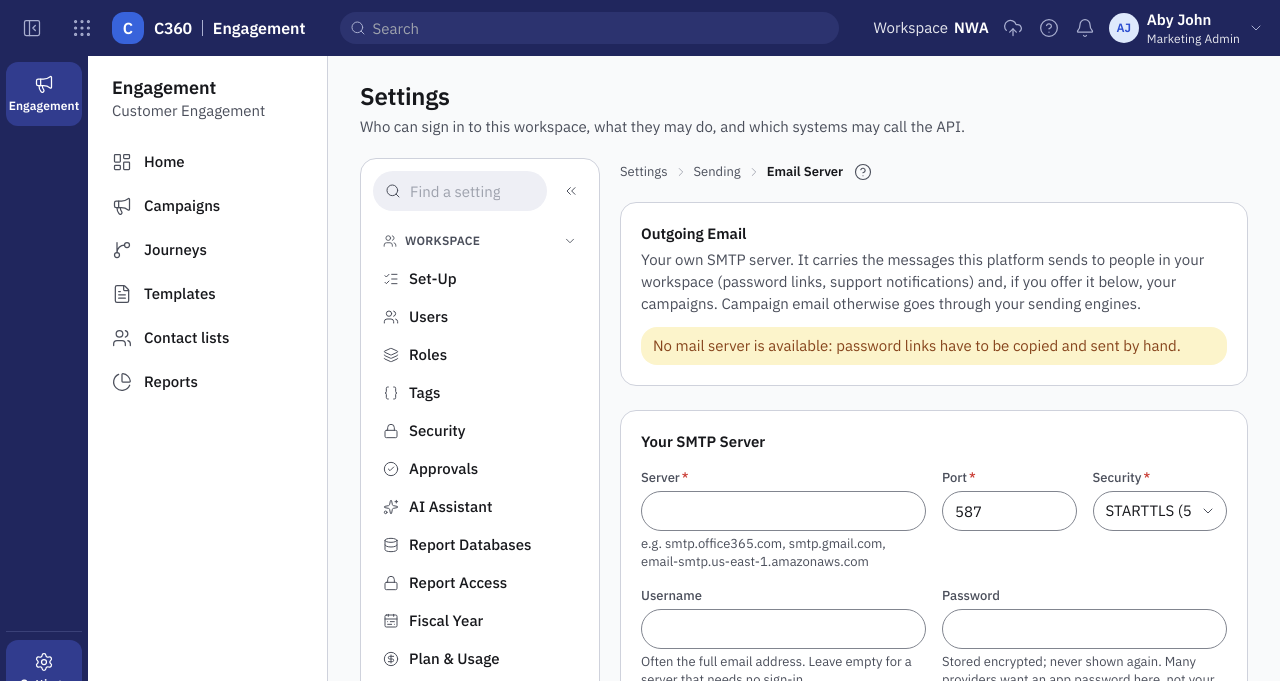
a workspace enters its own SMTP server: the password is sent once and never shown again; a test message can then be sent
This screenshot has width=1280, height=681.
Expected: the text "No mail server is available" is shown, [653, 336, 1181, 355]
In the field labelled "Server*": (784, 511) [641, 491, 926, 531], type "smtp.office365.com"
In the field labelled "Username": (784, 629) [641, 609, 926, 649], type "mailer@nwa.example"
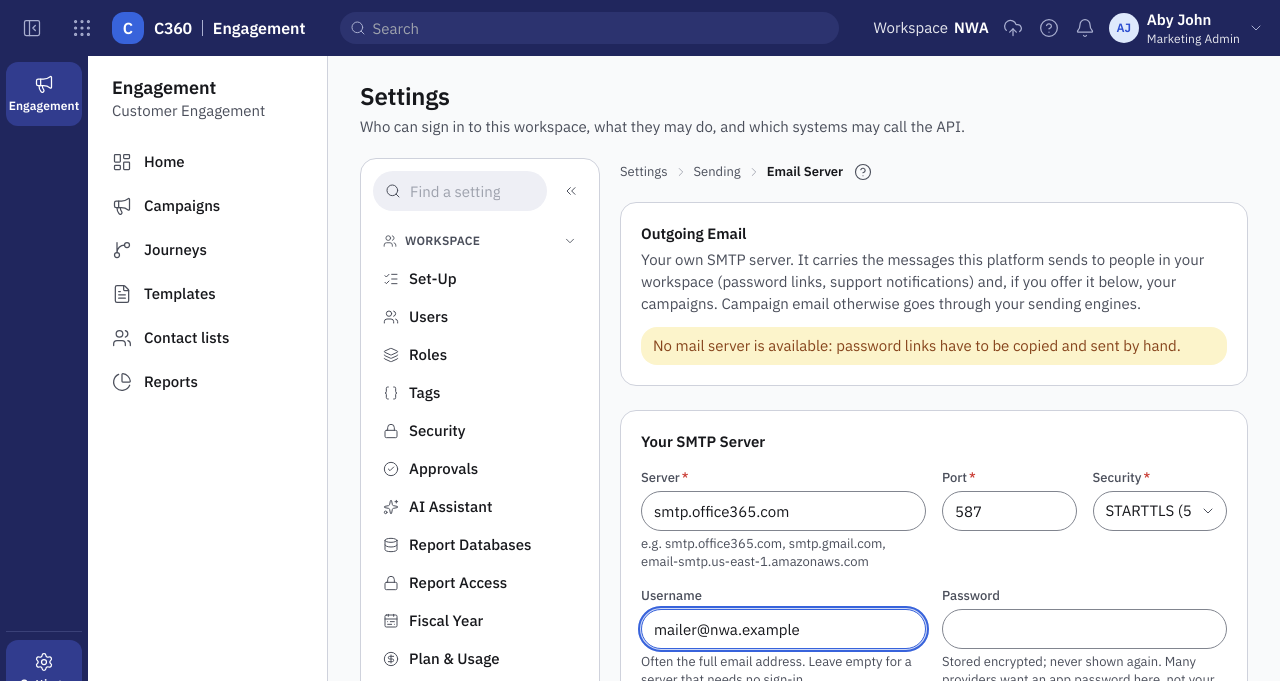
In the password field labelled "Password": (1084, 629) [942, 609, 1227, 649], type "app-password-1"
(page scrolled)
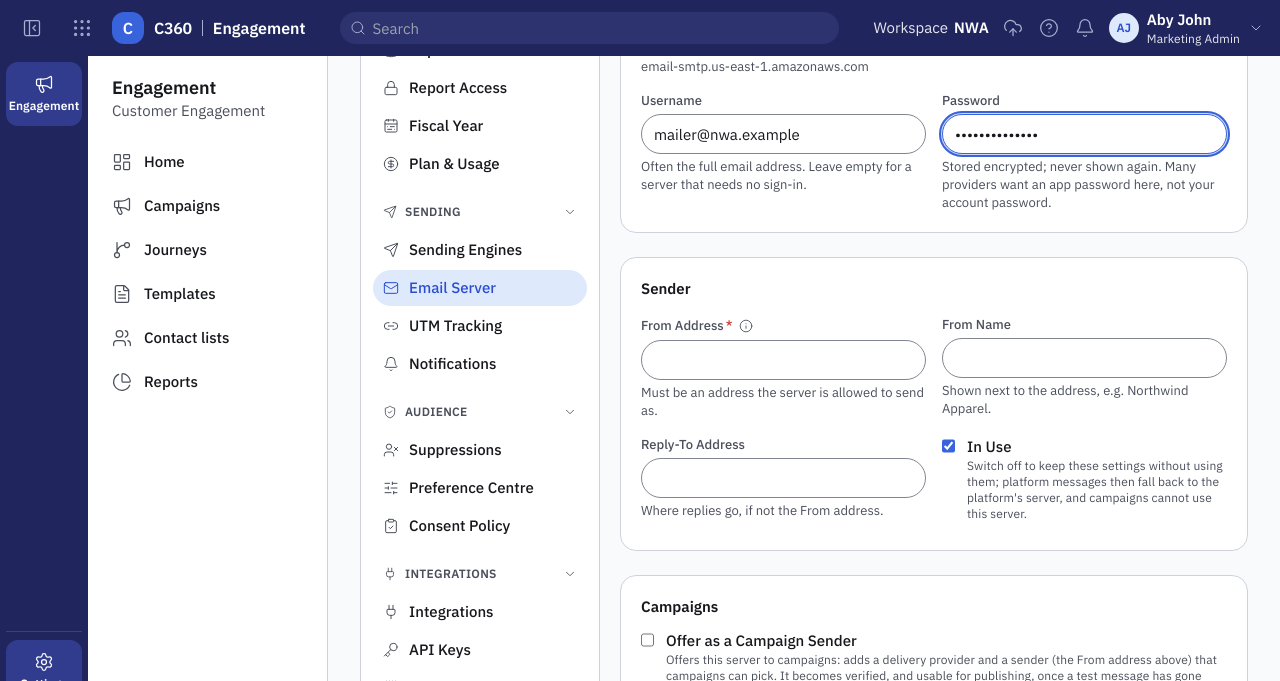
In the field labelled "From Address*": (784, 360) [641, 340, 926, 380], type "hello@nwa.example"
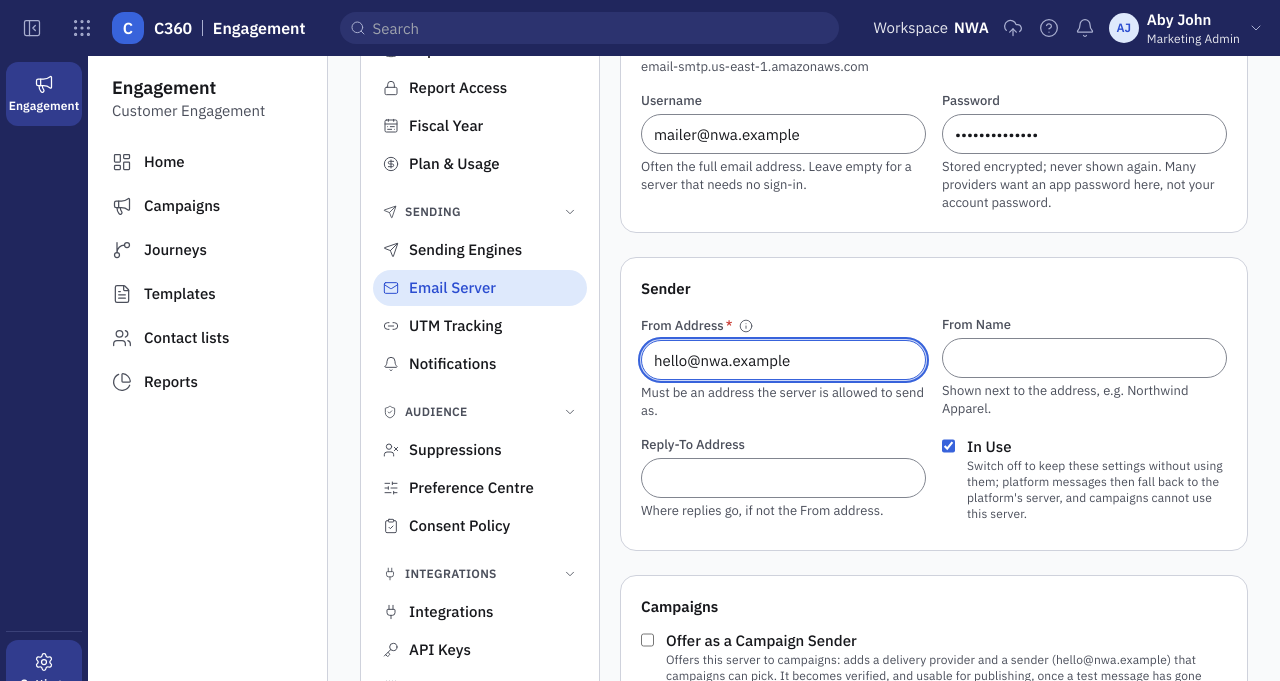
In the field labelled "From Name": (1084, 358) [942, 338, 1227, 378], type "Northwind"
(page scrolled)
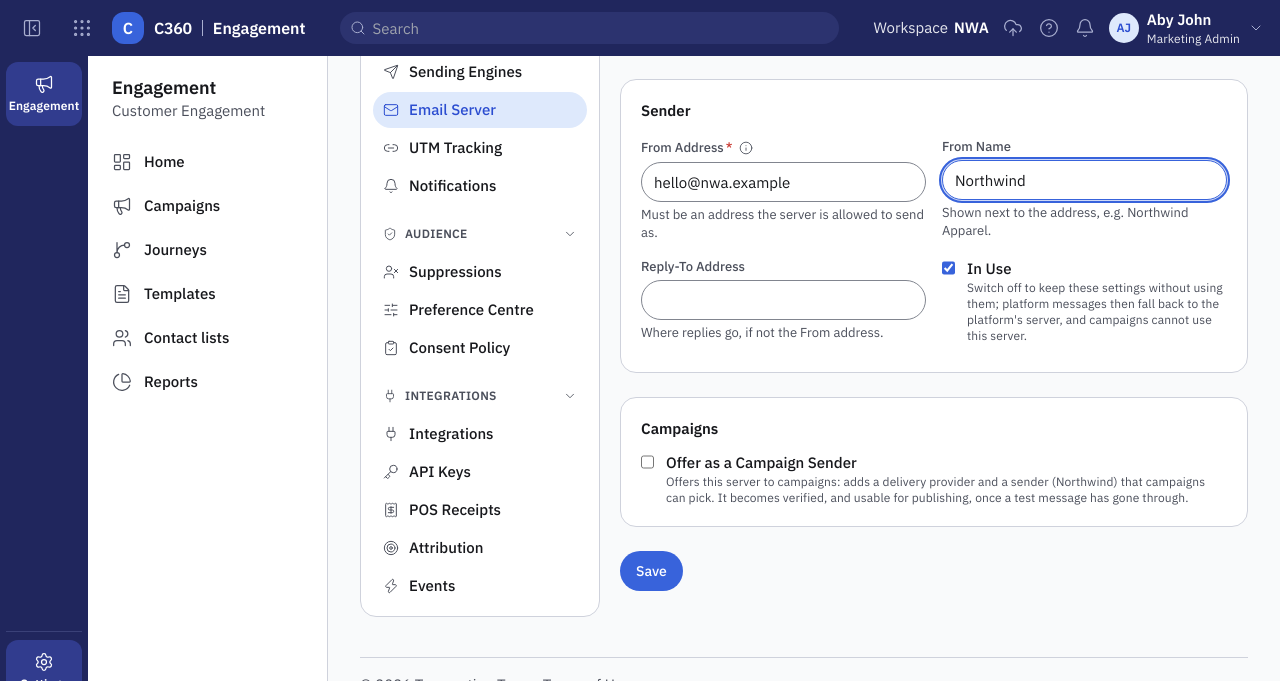
Click the button "Save": (651, 571) [620, 551, 683, 591]
(page scrolled)
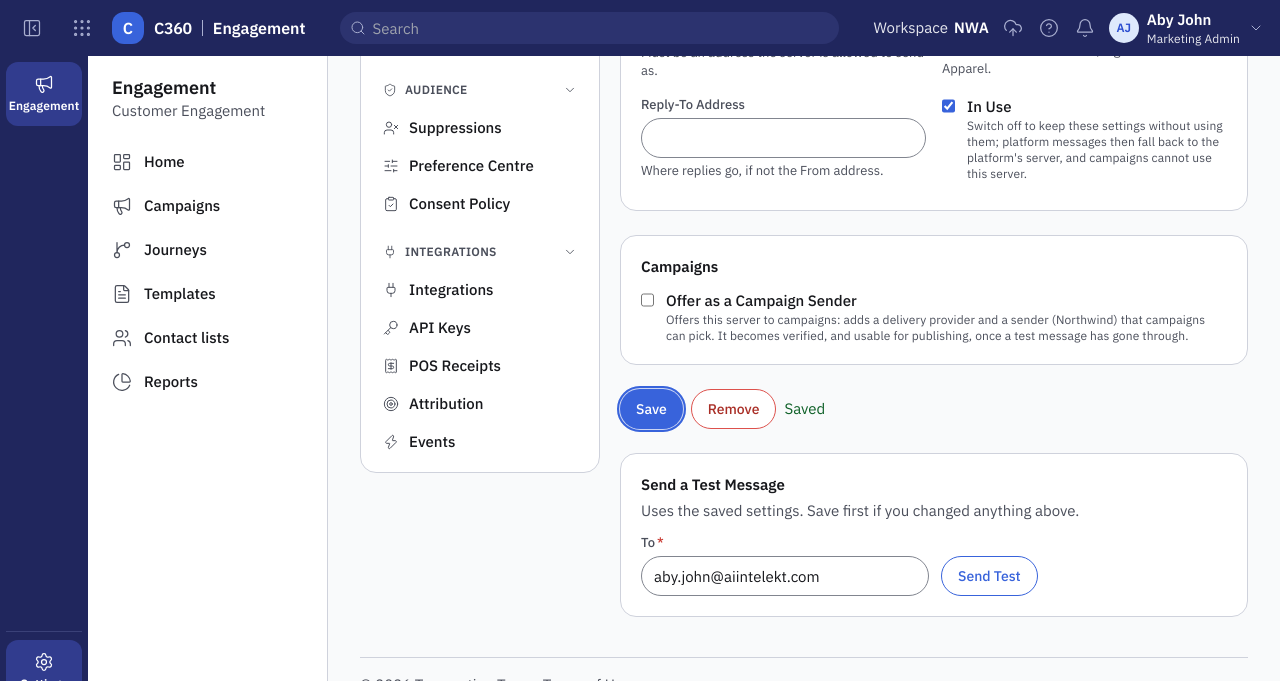
Expected: the text "Saved" is shown, [784, 398, 825, 420]
Expected: the field labelled "To*" holds "aby.john@aiintelekt.com", [641, 556, 929, 596]
Click the button "Send Test": (989, 576) [941, 556, 1038, 596]
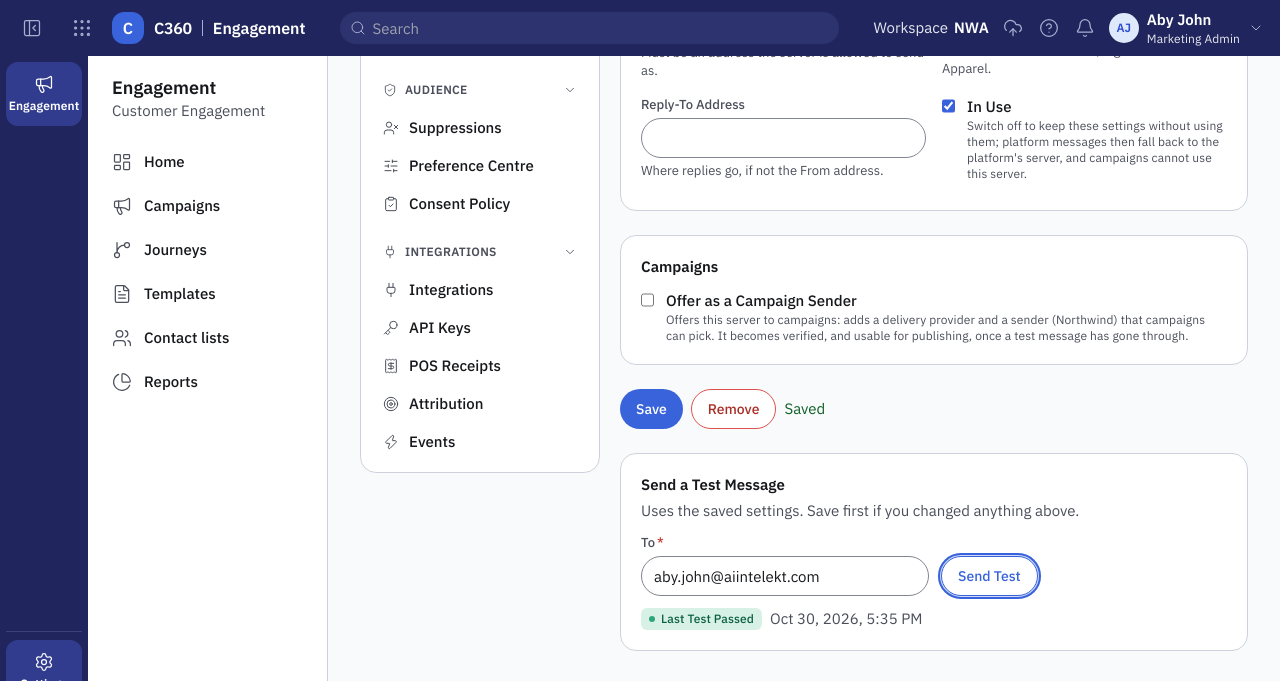
Expected: the text "Last Test Passed" is shown, [641, 608, 762, 630]
